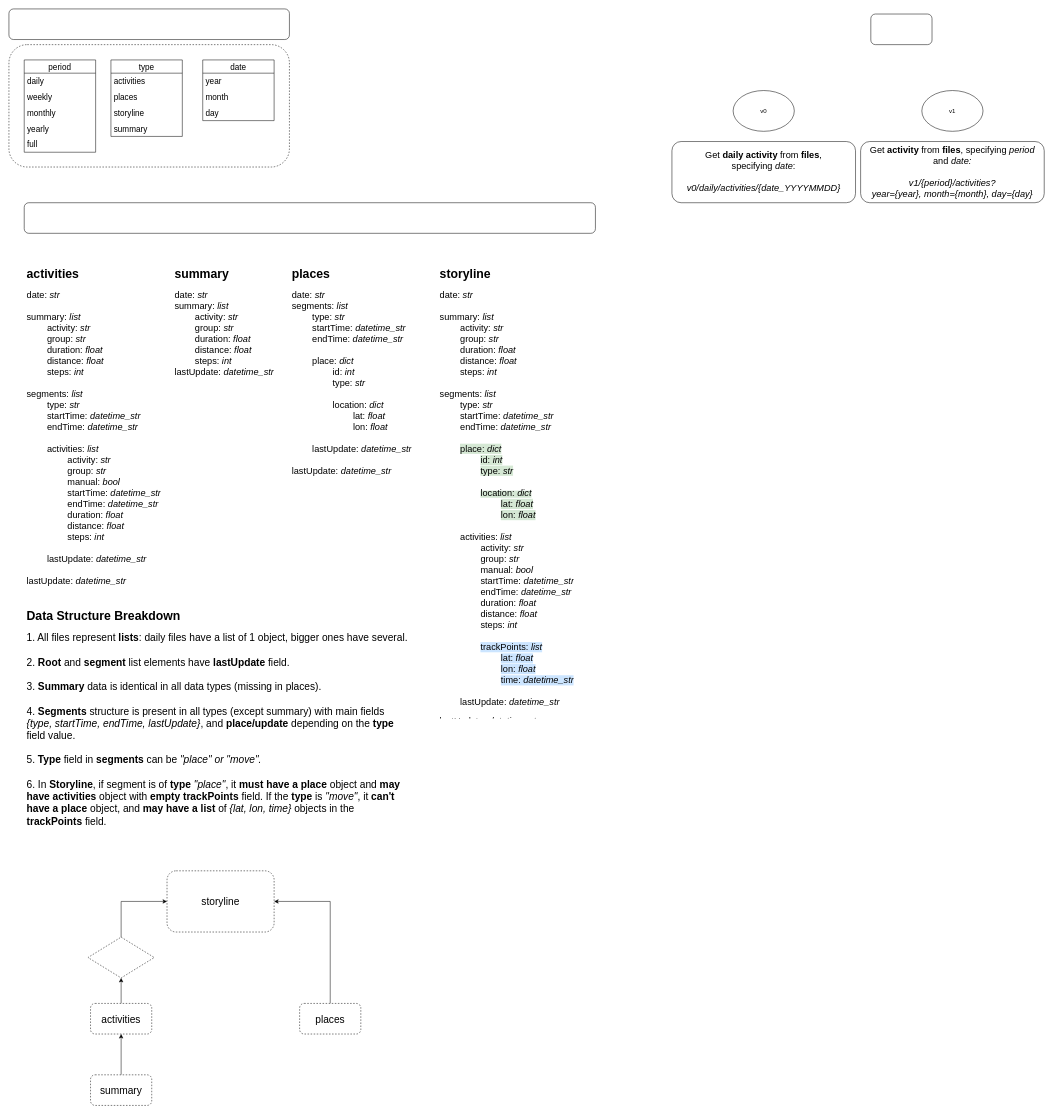
Image size: 1053x1114. Some labels were removed from this diagram. The centre of each missing label's shape, as x and y in pixels:
"+trackPoints" goes at [120,957].
"API Endpoints" goes at [901,29].
"Data Types Structure" goes at [309,217].
"Main Data Attributes" goes at [148,24].
